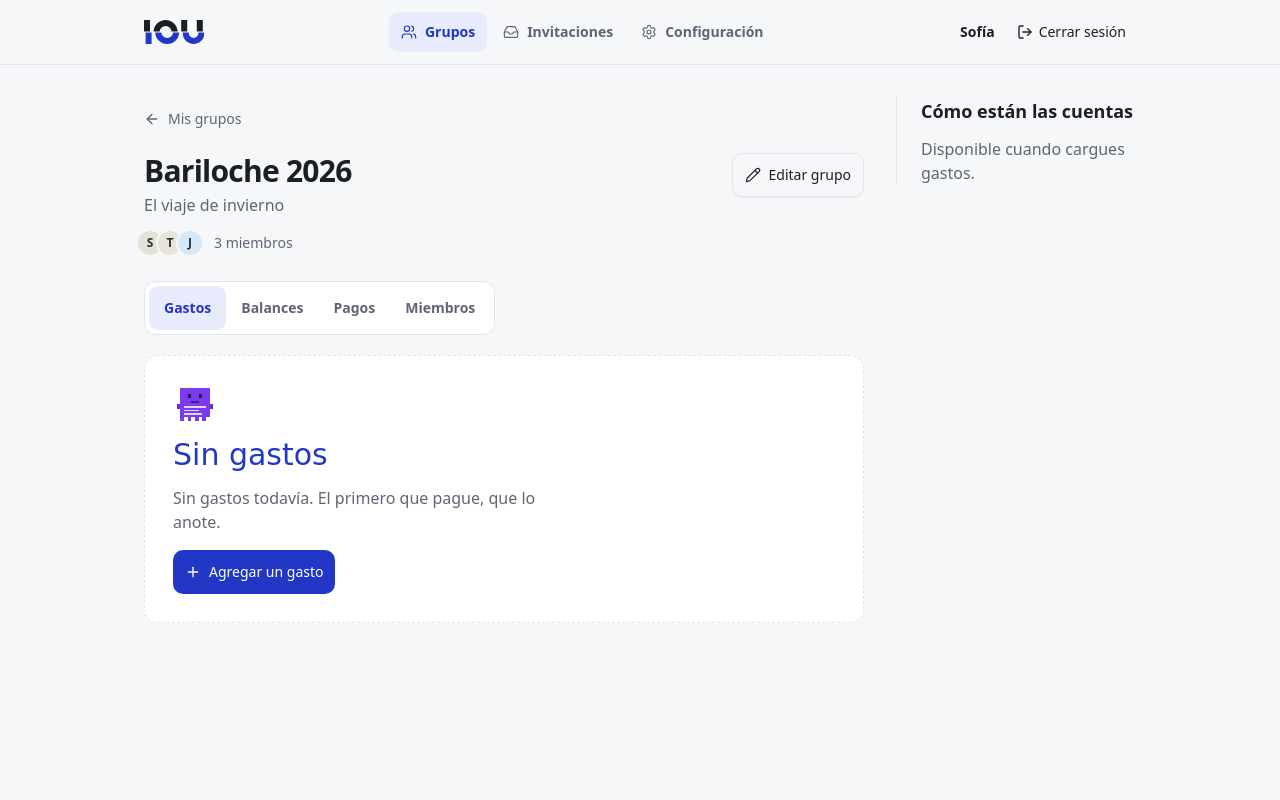
Detalle del grupo › Gastos vacía, Balances con la liquidación (CA-19.3, CA-21.1) y Pagos vacía
Expected: the text "Sin gastos todavía. El primero que pague, que lo anote." is shown, x1=173 y1=486 x2=539 y2=534
Click the tab "Balances".
click(272, 308)  # box x1=226 y1=286 x2=318 y2=330
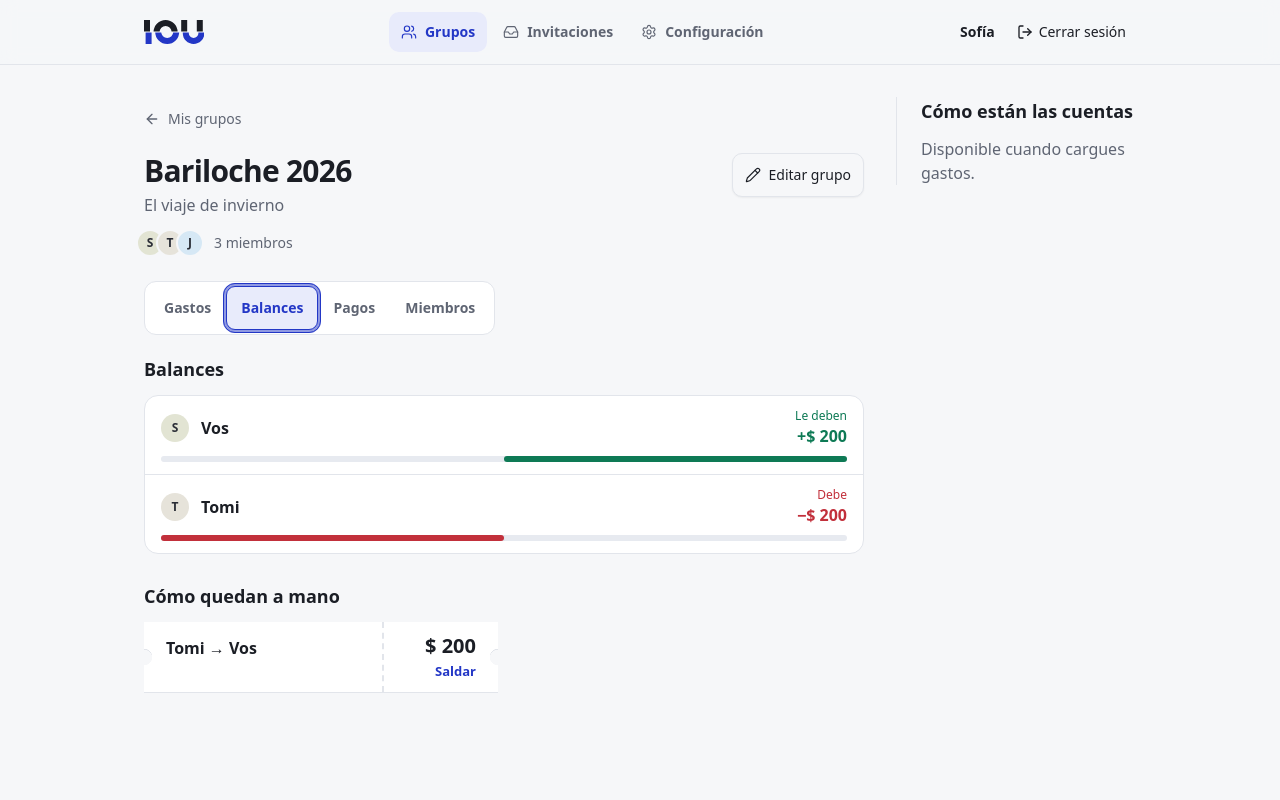
Now the text "Tomi → Vos" is shown, box x1=166 y1=637 x2=257 y2=659
Now the panel shows "Le deben", box x1=795 y1=407 x2=847 y2=424
Now the panel shows "debe", box x1=817 y1=486 x2=847 y2=503
Click the tab "Pagos".
click(354, 308)  # box x1=318 y1=286 x2=390 y2=330
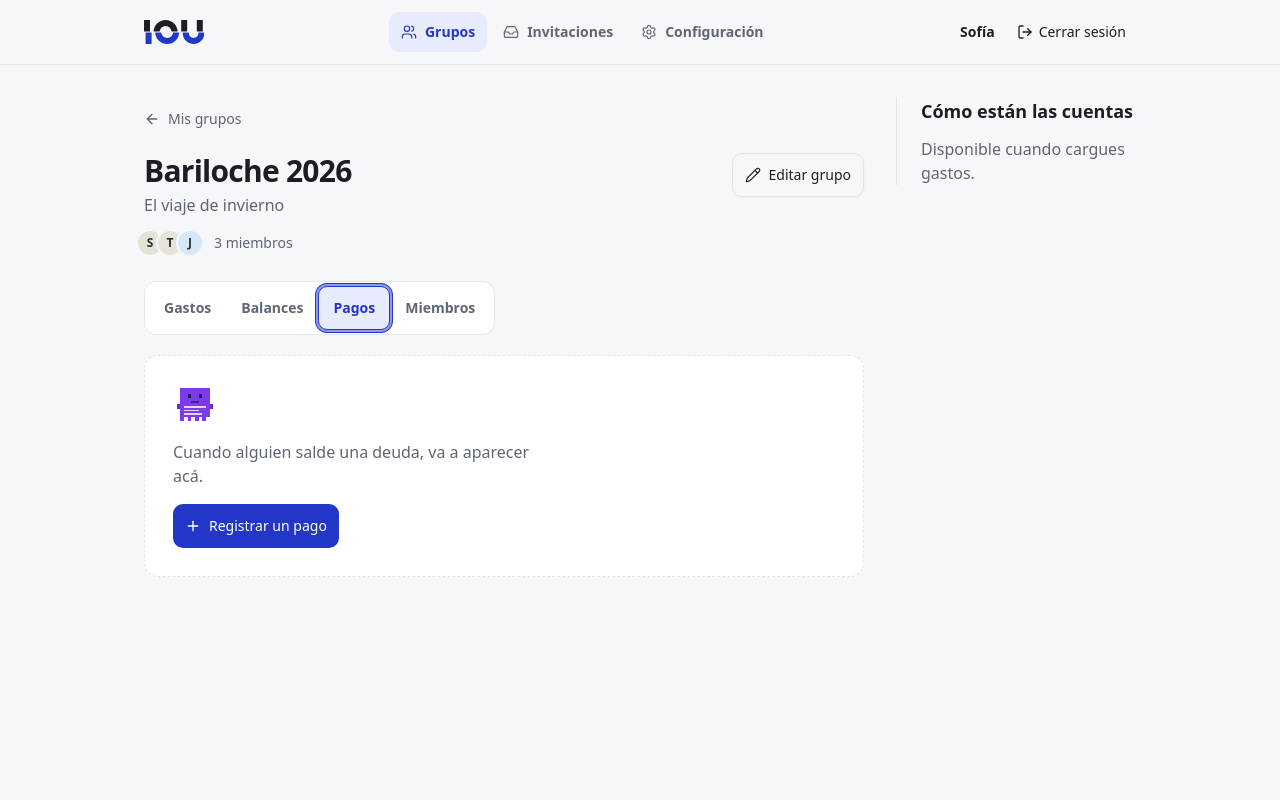
Now the text "Cuando alguien salde una deuda, va a aparecer acá." is shown, box x1=173 y1=440 x2=539 y2=488
